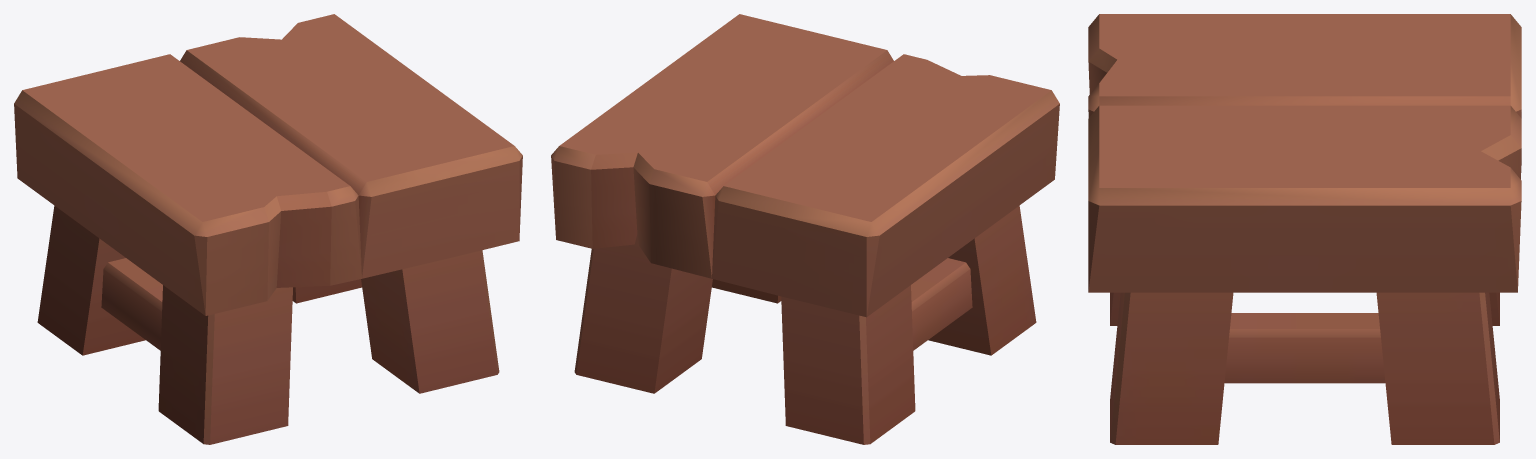
File: stool.glb
3 views of the same model, side by side, from view 1: azimuth 30°, elevation 25°; view 2: azimuth 150°, elevation 25°; view 3: azimuth 270°, elevation 25° (orthographic). The views are drawn at different scales.
Visible parts, largest first — view 1: stool; view 2: stool; view 3: stool.
Part boxes in pixels (<box>): stool: <box>14,14,522,444</box>; stool: <box>551,14,1059,444</box>; stool: <box>1088,14,1521,444</box>.
Size of the model in its own units: 0.75 by 0.5 by 0.75.
1 material, 1 textured.
